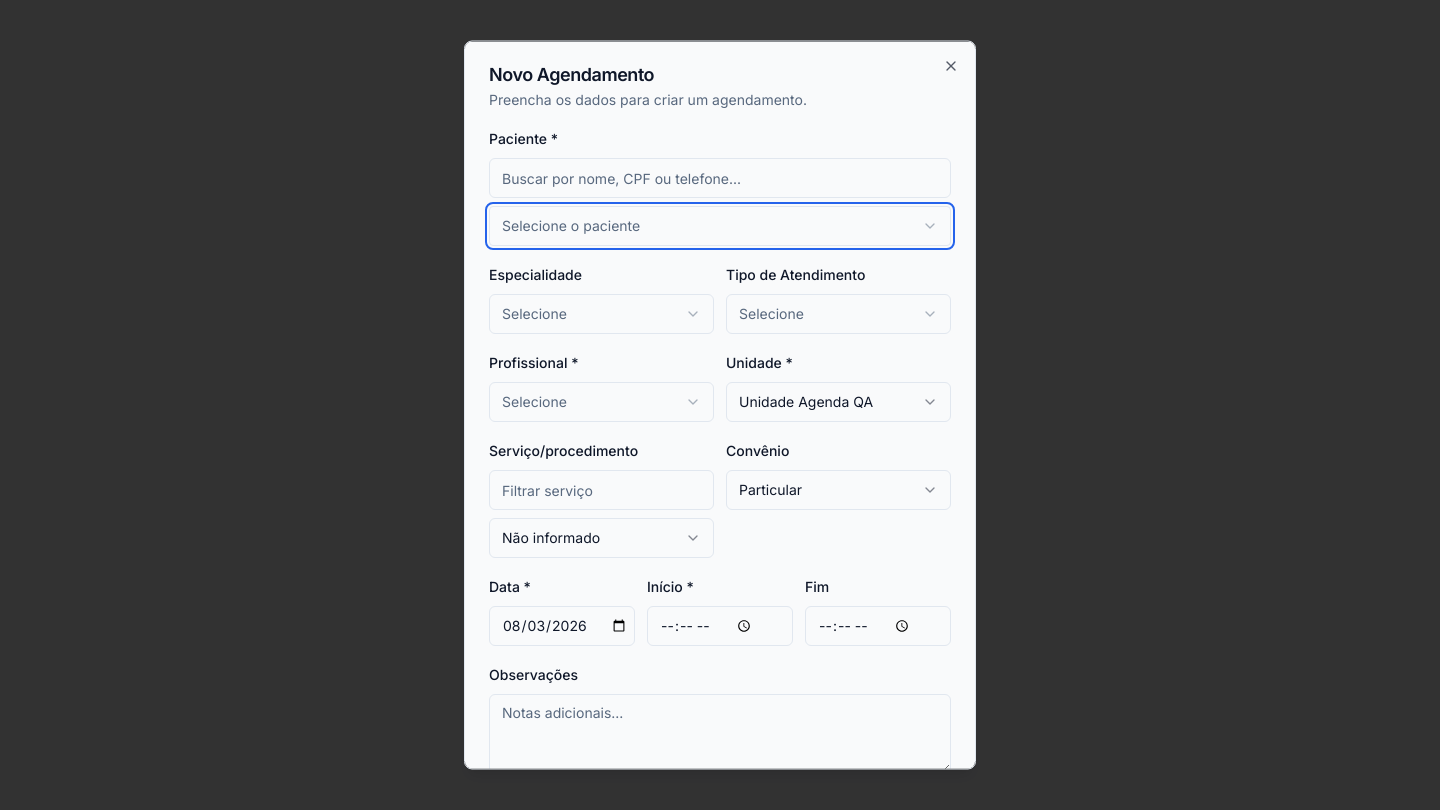
Scenario: NewAppointmentDialog › preserva profissional e unidade com IDs numéricos durante requisitos assíncronos
Later steps or results of the test are not shown.
Press ArrowDown in the dropdown named "Selecionar paciente", box left=489, top=206, right=951, bottom=246
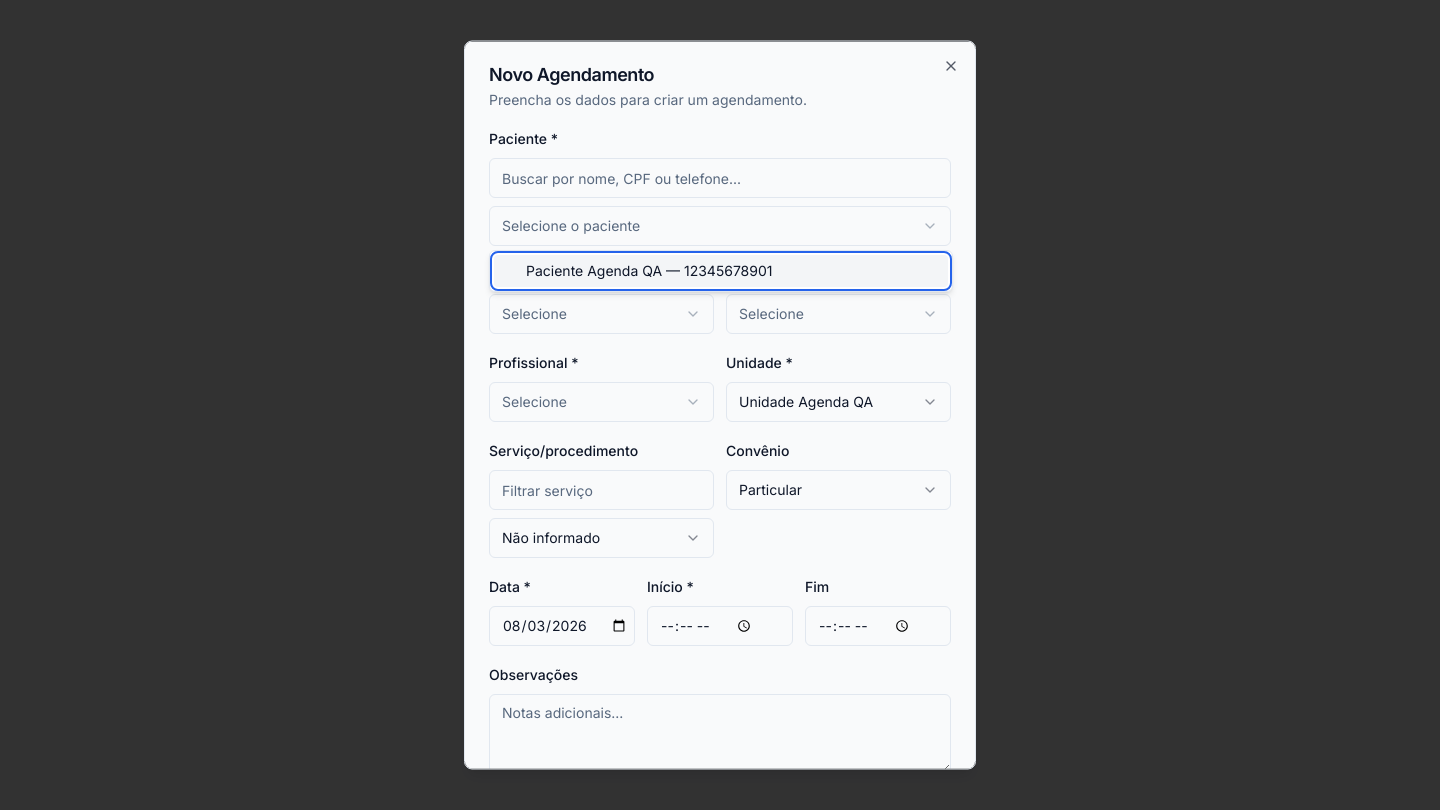
Click the option "Paciente Agenda QA — 12345678901": [721, 271] box left=494, top=255, right=948, bottom=287
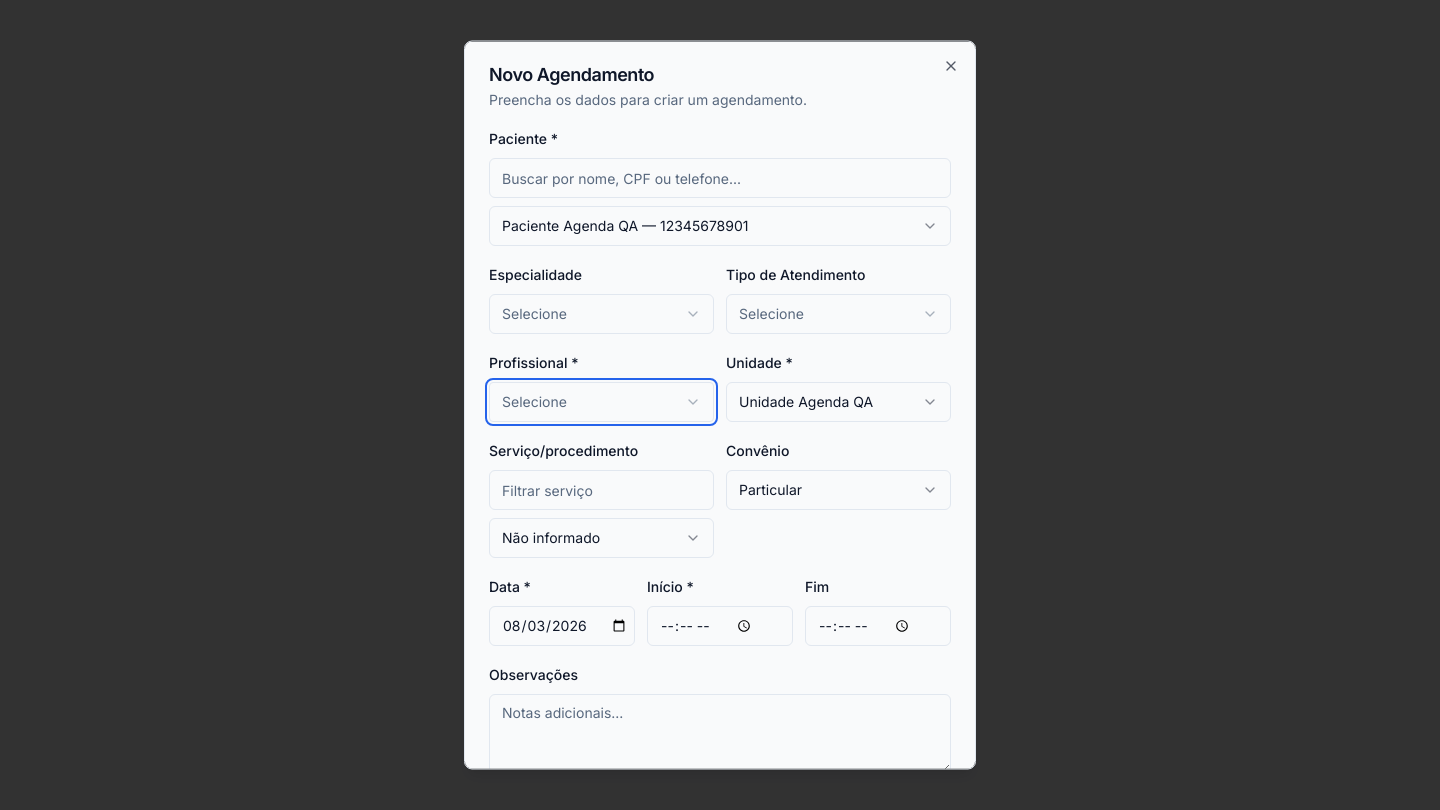
Press ArrowDown in the dropdown named "Selecionar profissional", box left=489, top=382, right=714, bottom=422
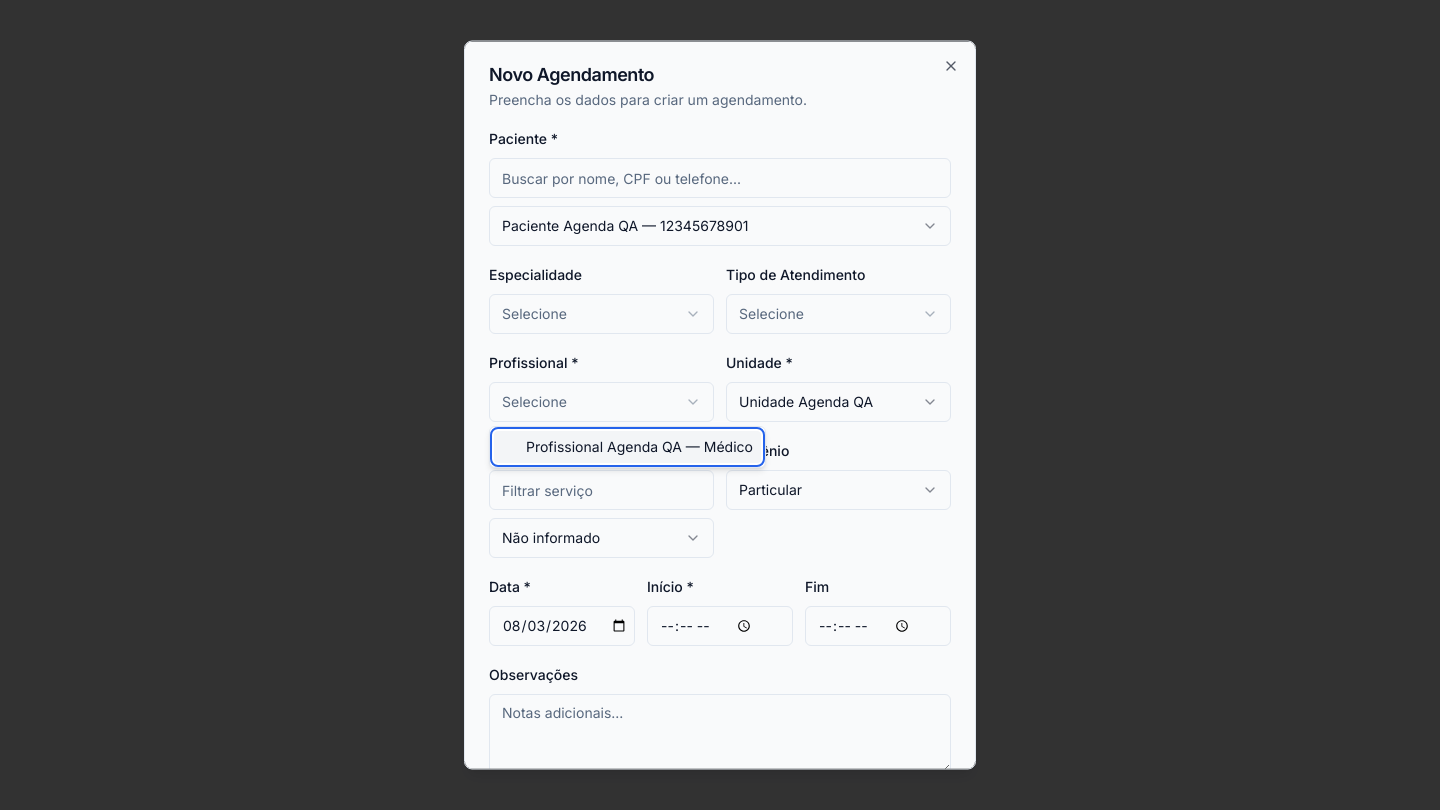
Click the option "Profissional Agenda QA — Médico": [628, 447] box left=494, top=431, right=761, bottom=463
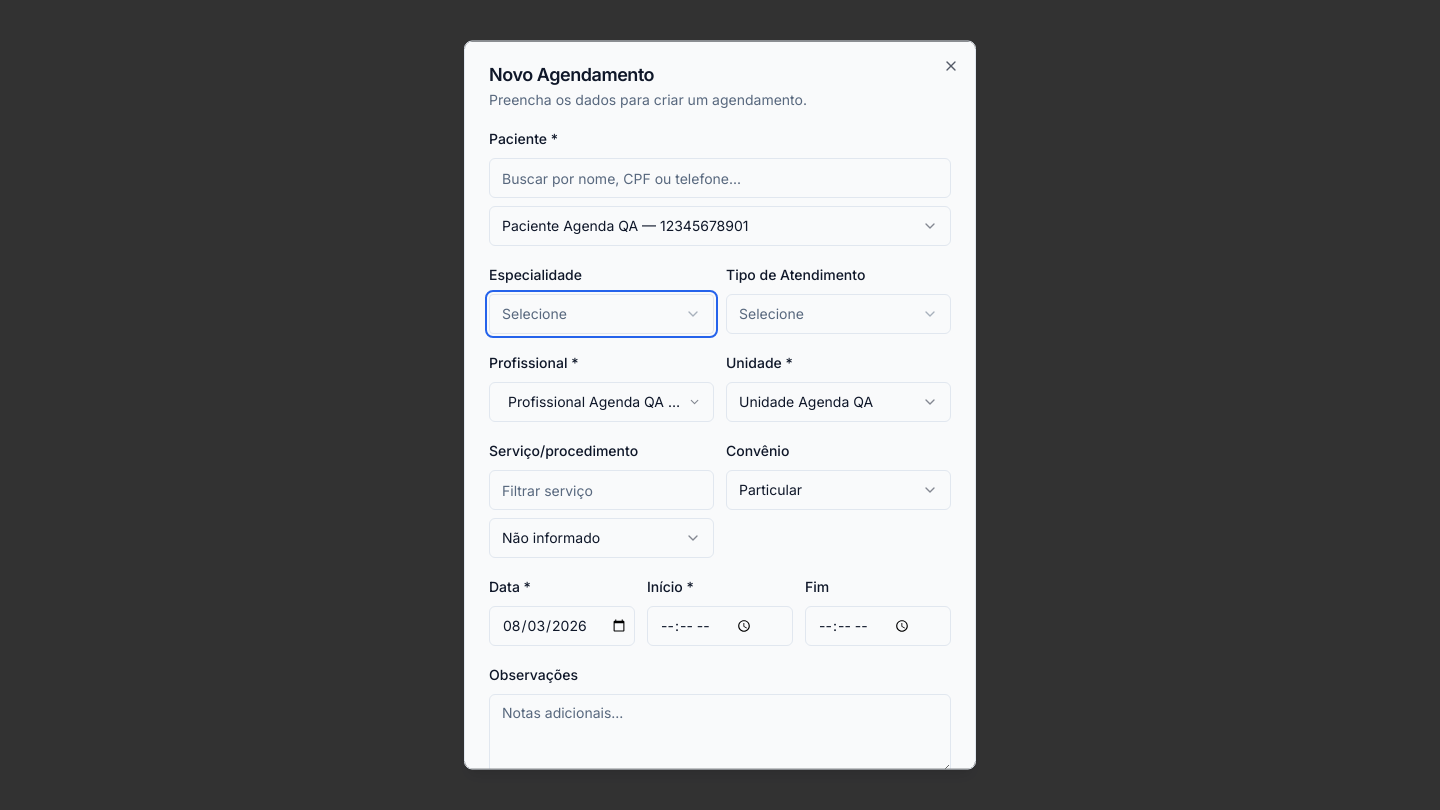
Press ArrowDown in the dropdown named "Selecionar especialidade", box left=489, top=294, right=714, bottom=334
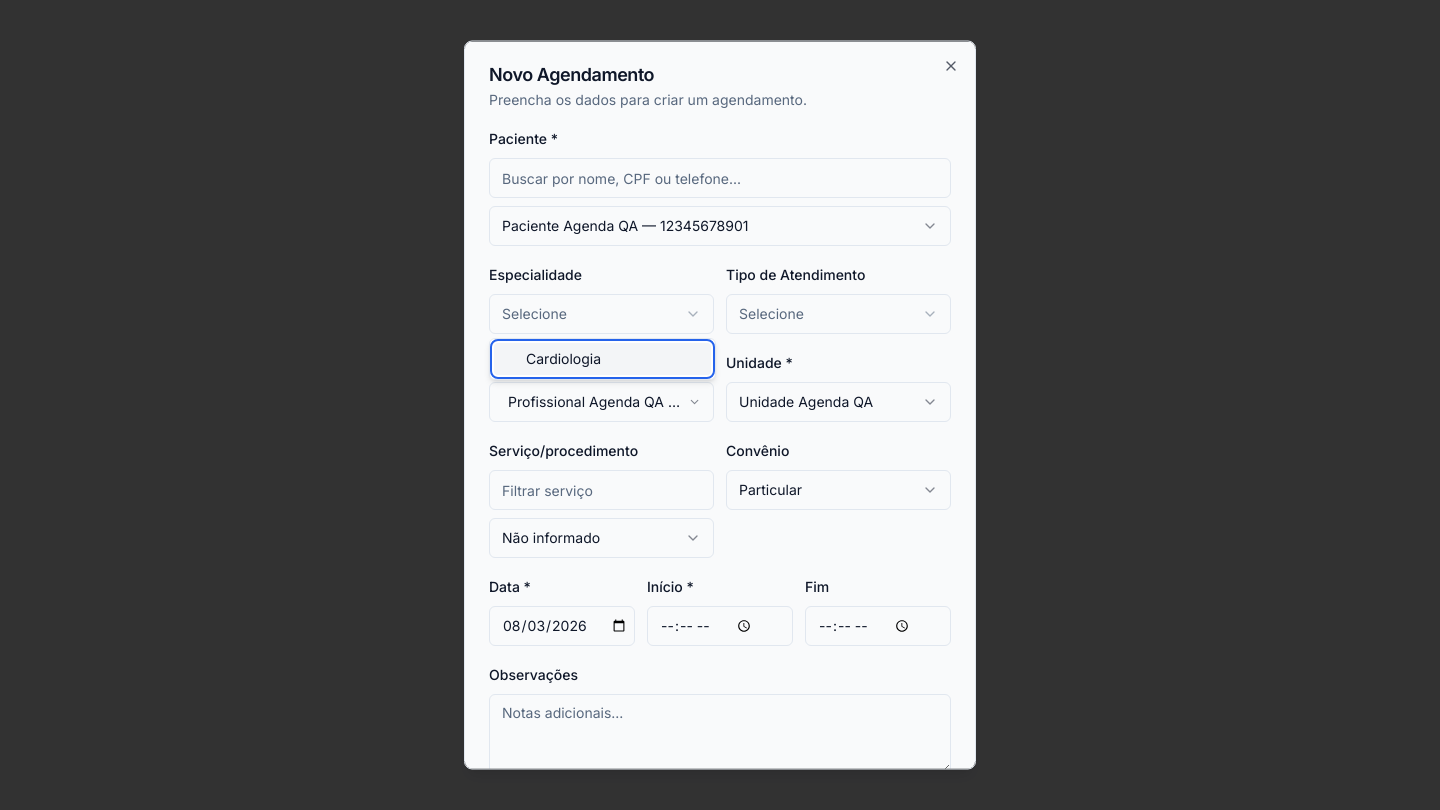
Click the option "Cardiologia": [602, 359] box left=494, top=343, right=711, bottom=375
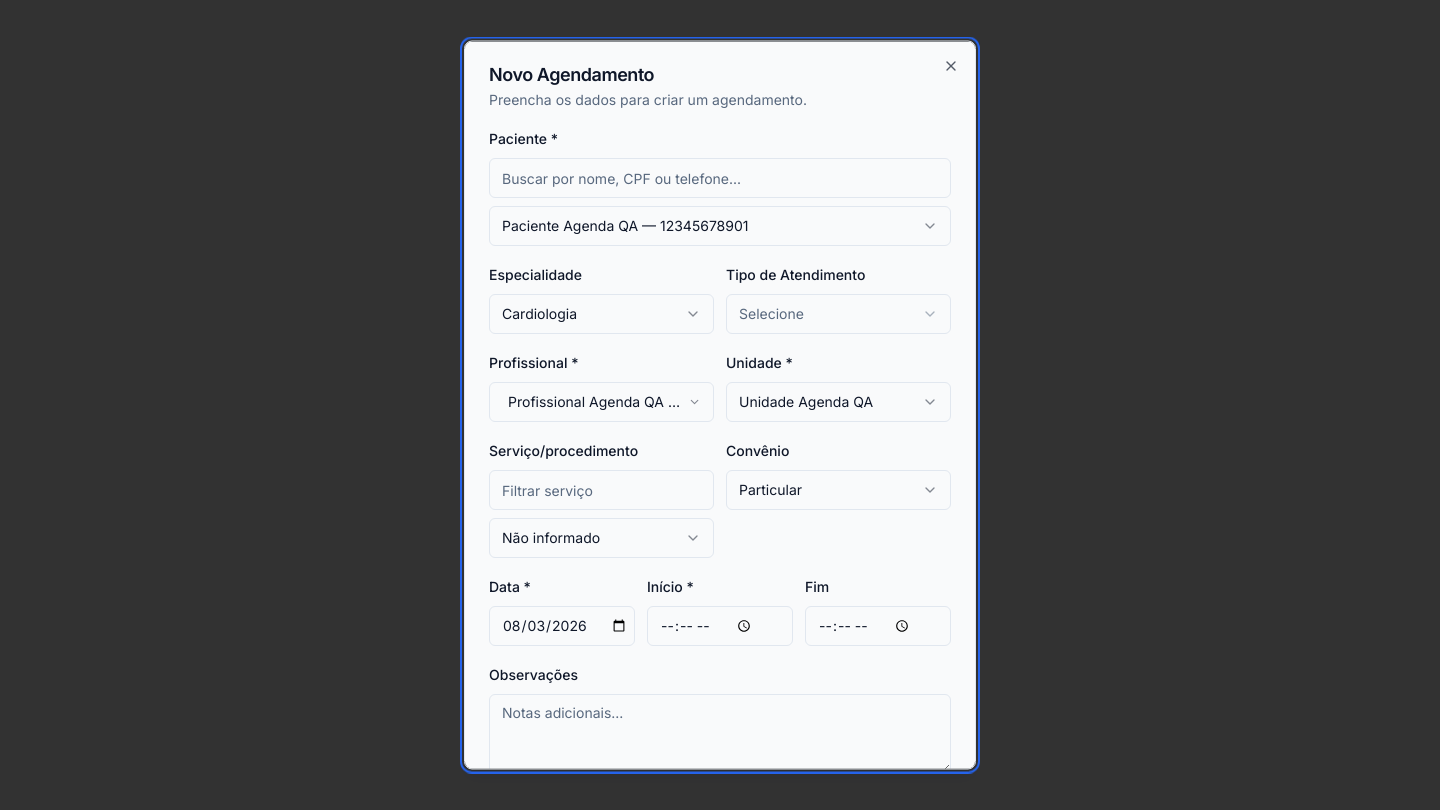
expect the dropdown named "Selecionar unidade do agendamento" reads "Unidade Agenda QA": met, box left=726, top=382, right=951, bottom=422
expect the dropdown named "Selecionar profissional" shows "Profissional Agenda QA": met, box left=489, top=382, right=714, bottom=422
